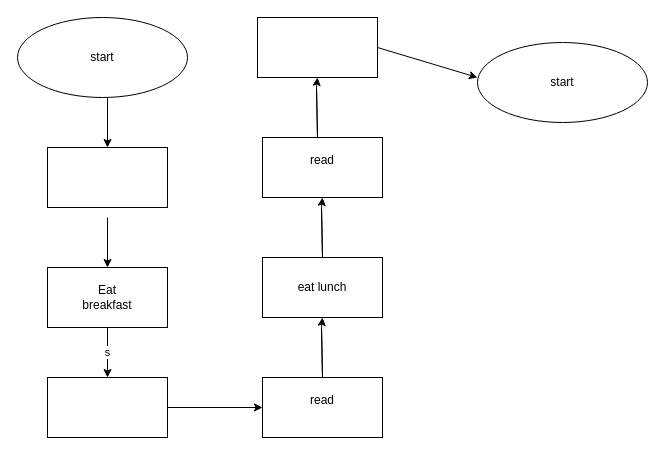
Some shapes in this 665 by 455 pixel diagram are drawn without their labels. The shapes that lost their labels are listed below. From the top down, each one's box as (x1, y1, x2, y2) in pixels, then its label:
(256, 16, 378, 78): sleep
(46, 146, 168, 208): Brush teeth and wash face
(46, 376, 168, 438): Study
